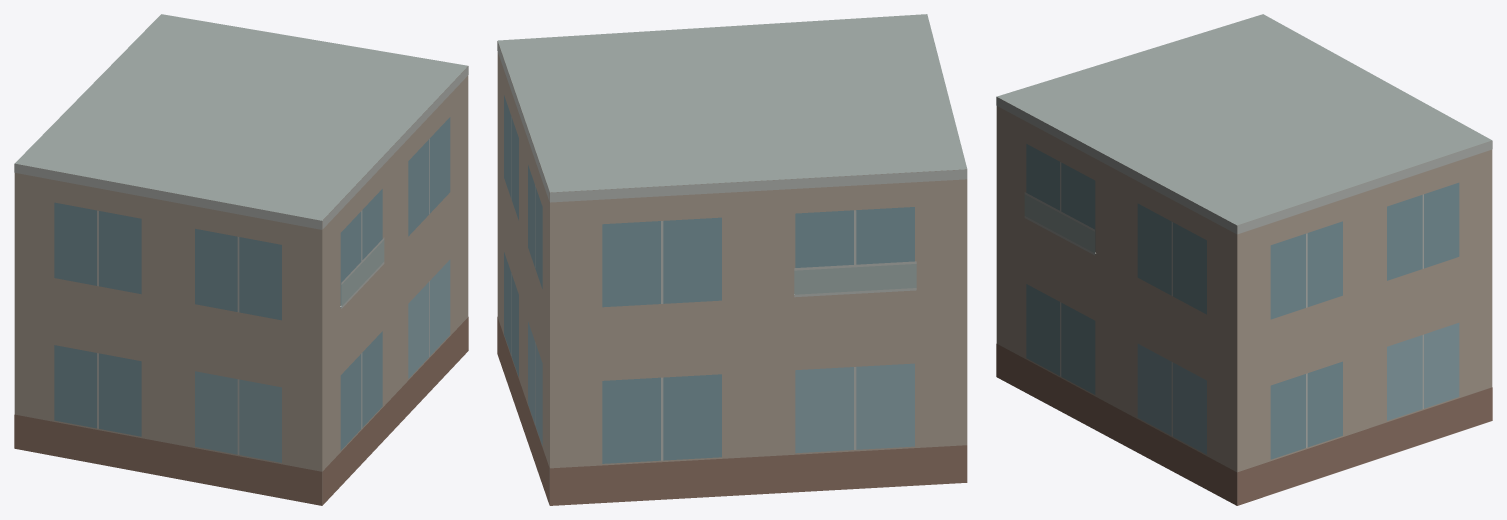
The model's file is survey-upis-32583400.glb.
The picture shows the model from 3 angles, left to right: view 1: azimuth 30°, elevation 25°; view 2: azimuth 150°, elevation 25°; view 3: azimuth 270°, elevation 25°; orthographic projection. The views are drawn at different scales.
Visible parts, largest first — view 1: survey-upis-32583400.tmp; view 2: survey-upis-32583400.tmp; view 3: survey-upis-32583400.tmp.
Part boxes in pixels (x1,y1,x2,y2): survey-upis-32583400.tmp: (14,14,468,505); survey-upis-32583400.tmp: (497,14,967,505); survey-upis-32583400.tmp: (996,14,1492,505).
Size of the model in its own units: 12.3 by 7.6 by 12.19.
